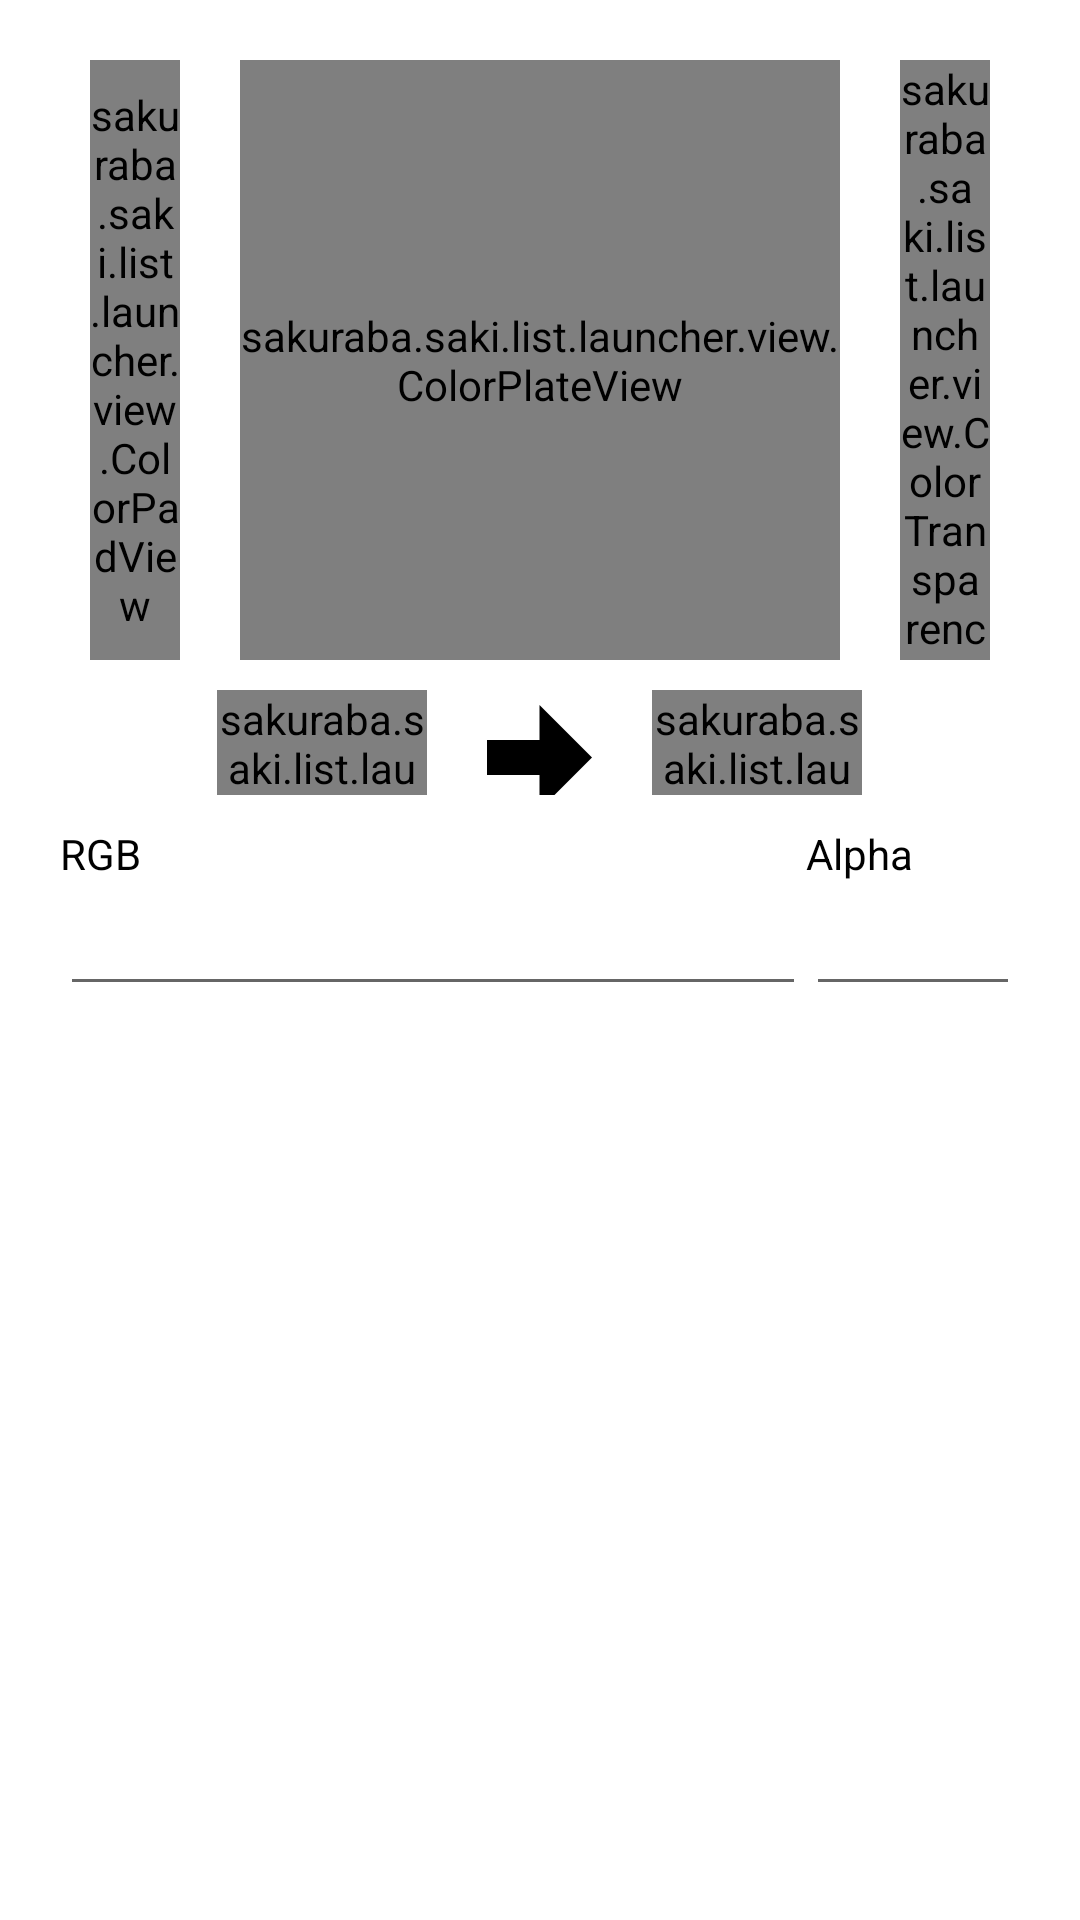

Icons on this 1080 × 1920 Android screen, each with its box as bbox=[x1, y1, x2, y2]:
arrow: bbox=[487, 705, 592, 795]
